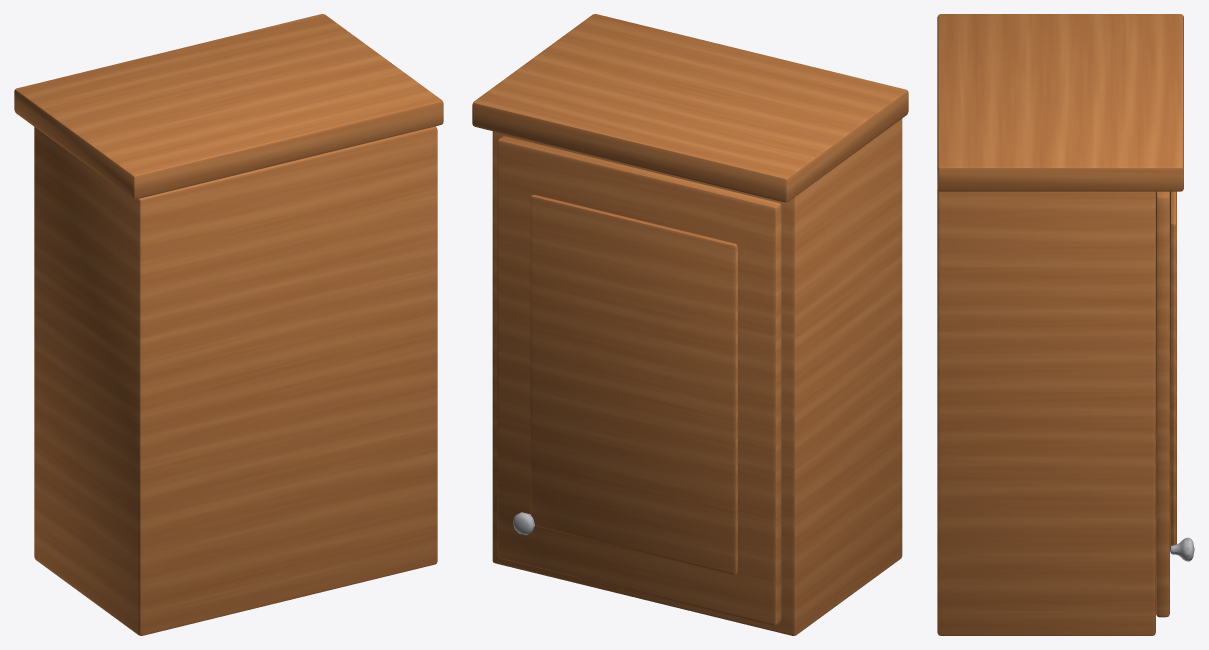
Rendered from SM_Cabinet_Wall_05.fbx.
3 views of the same model, side by side, from view 1: azimuth 30°, elevation 25°; view 2: azimuth 150°, elevation 25°; view 3: azimuth 270°, elevation 25° (orthographic). The views are drawn at different scales.
Parts seen in each view (by area): view 1: SM_Cabinet_Wall_05; view 2: SM_Cabinet_Wall_05; view 3: SM_Cabinet_Wall_05.
Boxes of the visible parts, x1=… form: SM_Cabinet_Wall_05: x1=14, y1=14, x2=443, y2=635; SM_Cabinet_Wall_05: x1=472, y1=14, x2=908, y2=635; SM_Cabinet_Wall_05: x1=937, y1=14, x2=1194, y2=635.
Size of what is drawn, in the model's own units: 0.52 by 0.74 by 0.365.
2 materials, 2 textured.
